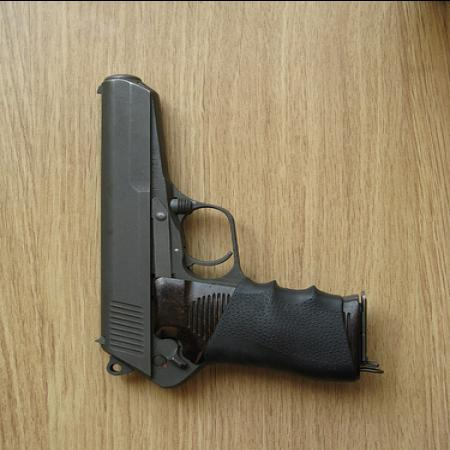Pistol: (94, 69, 363, 389)
